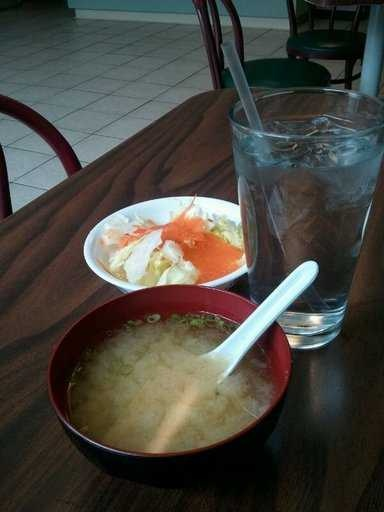soup: (27, 287, 287, 455)
